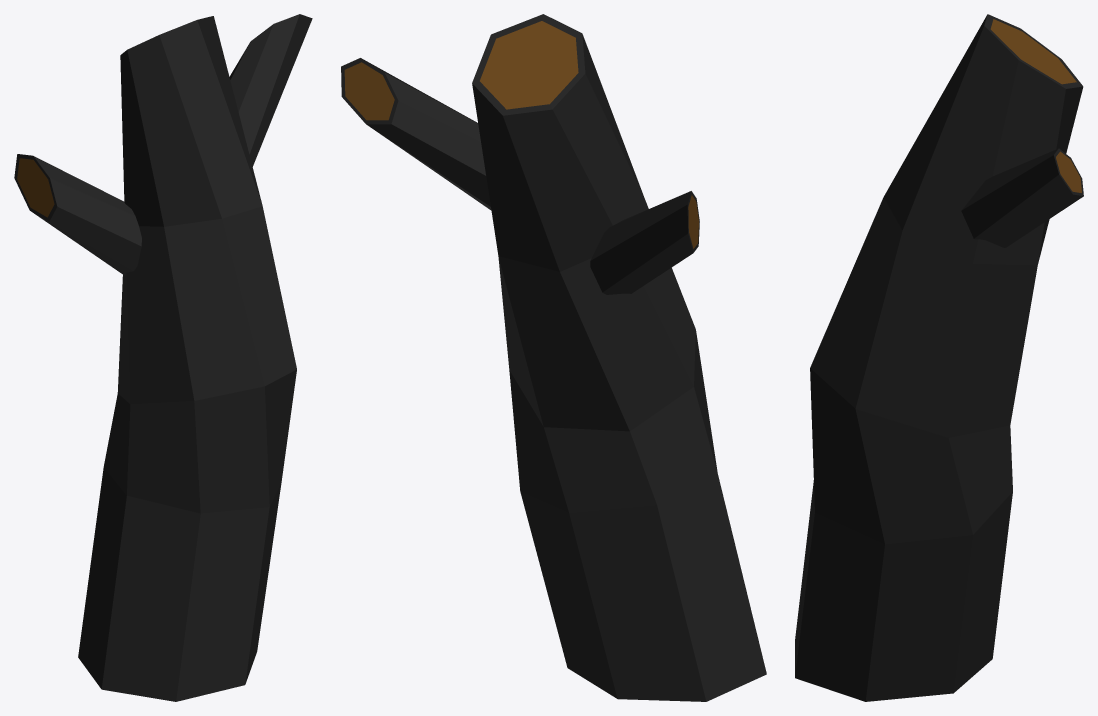
The model's file is TreeTrunk01.fbx.
3 views of the same model, side by side, from view 1: azimuth 30°, elevation 25°; view 2: azimuth 150°, elevation 25°; view 3: azimuth 270°, elevation 25° (orthographic). The views are drawn at different scales.
Parts seen in each view (by area): view 1: TreeStump01; view 2: TreeStump01; view 3: TreeStump01.
Part boxes in pixels (box(x1,y1,x2,y2)): TreeStump01: box(14, 14, 312, 701); TreeStump01: box(341, 14, 766, 701); TreeStump01: box(795, 14, 1083, 701).
Size of the model in its own units: 382 by 713 by 278.
